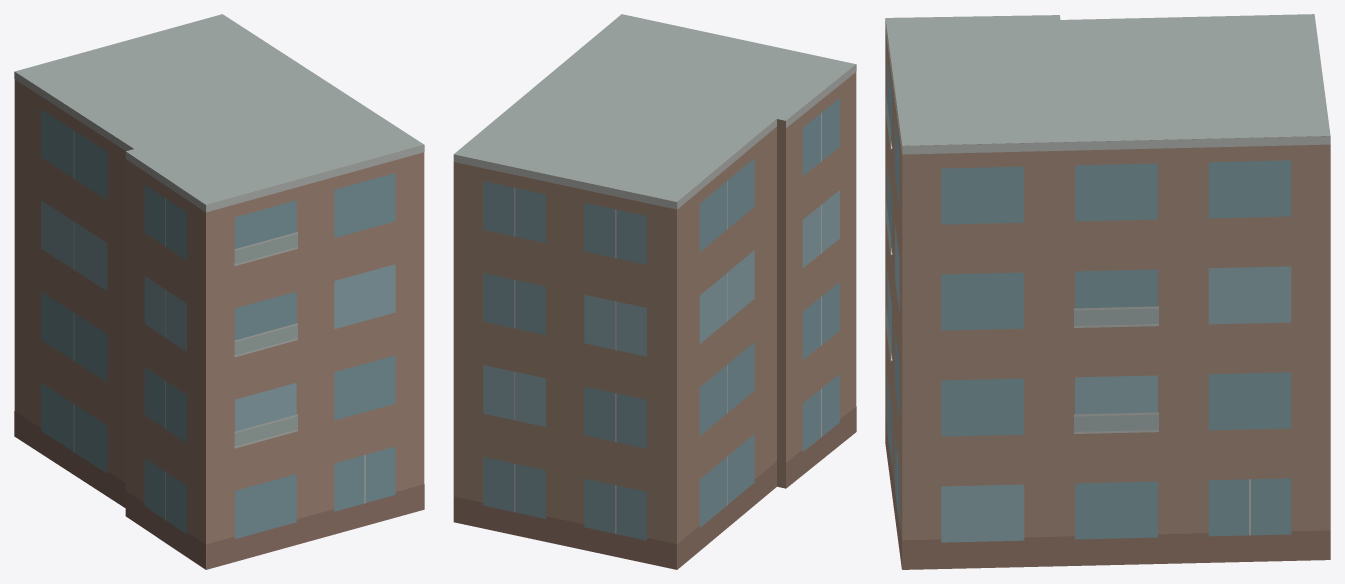
Rendered from survey-upis-32705875.glb.
3 views of the same model, side by side, from view 1: azimuth 30°, elevation 25°; view 2: azimuth 150°, elevation 25°; view 3: azimuth 270°, elevation 25° (orthographic). The views are drawn at different scales.
Visible parts, largest first — view 1: survey-upis-32705875.tmp; view 2: survey-upis-32705875.tmp; view 3: survey-upis-32705875.tmp.
Boxes of the visible parts, x1,y1,x2,y2 form: survey-upis-32705875.tmp: (14, 14, 424, 569); survey-upis-32705875.tmp: (453, 14, 856, 569); survey-upis-32705875.tmp: (885, 14, 1330, 569).
Size of the model in its own units: 7.95 by 11.9 by 11.34.
